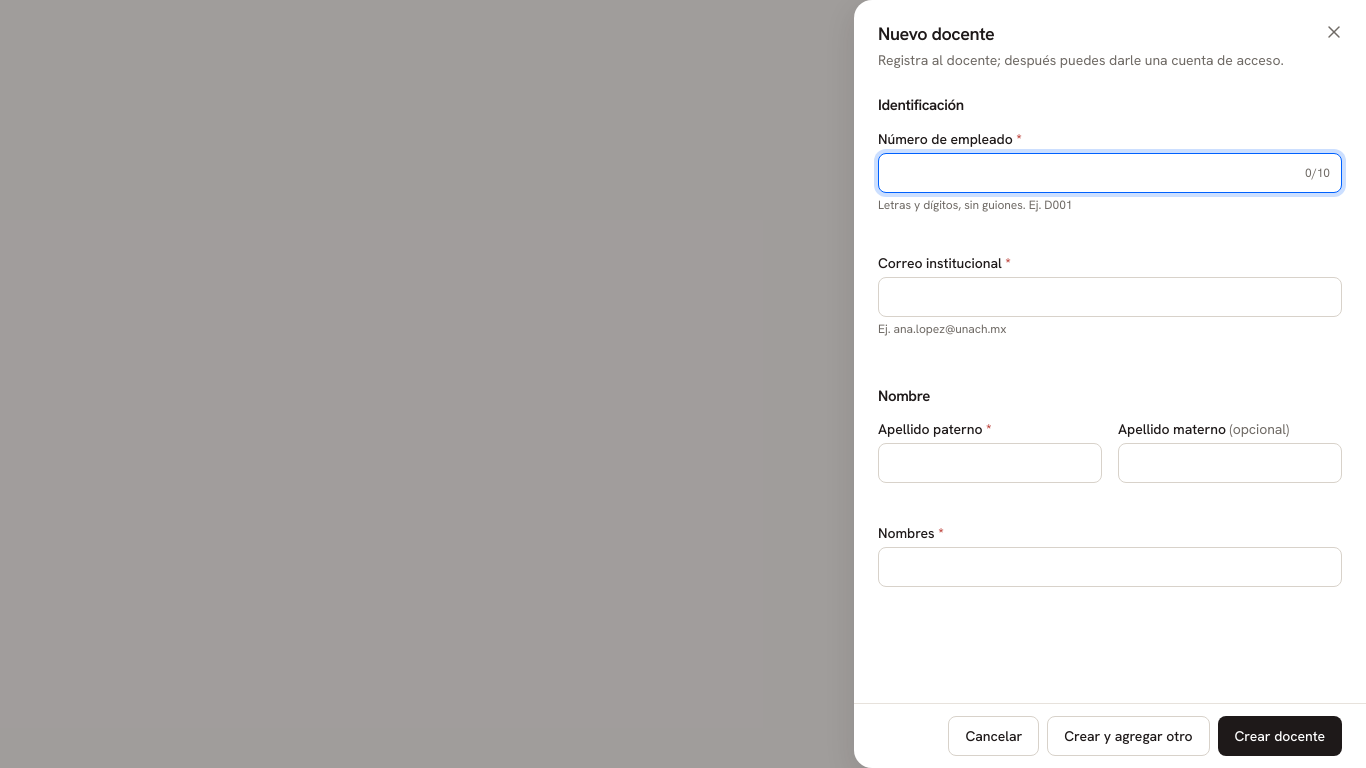
Test case: DocenteForm: alta › sin la función de cuenta no ofrece ese paso, pero sí las salidas
Type "d008" into the field labelled "Número de empleado *" at (1110, 172), box [878,152,1342,192]
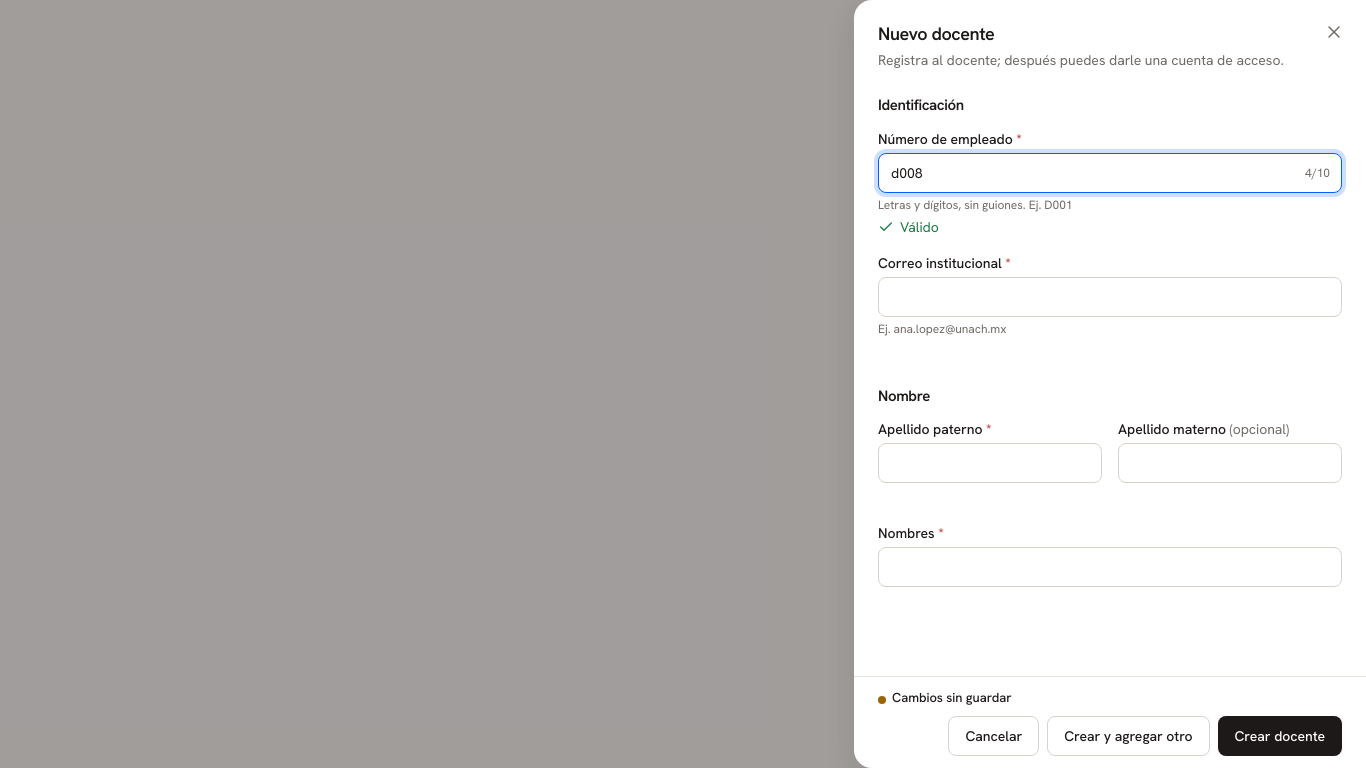
Type "ana.lopez@unach.mx" into the field labelled "Correo institucional *" at (1110, 296), box [878,276,1342,316]
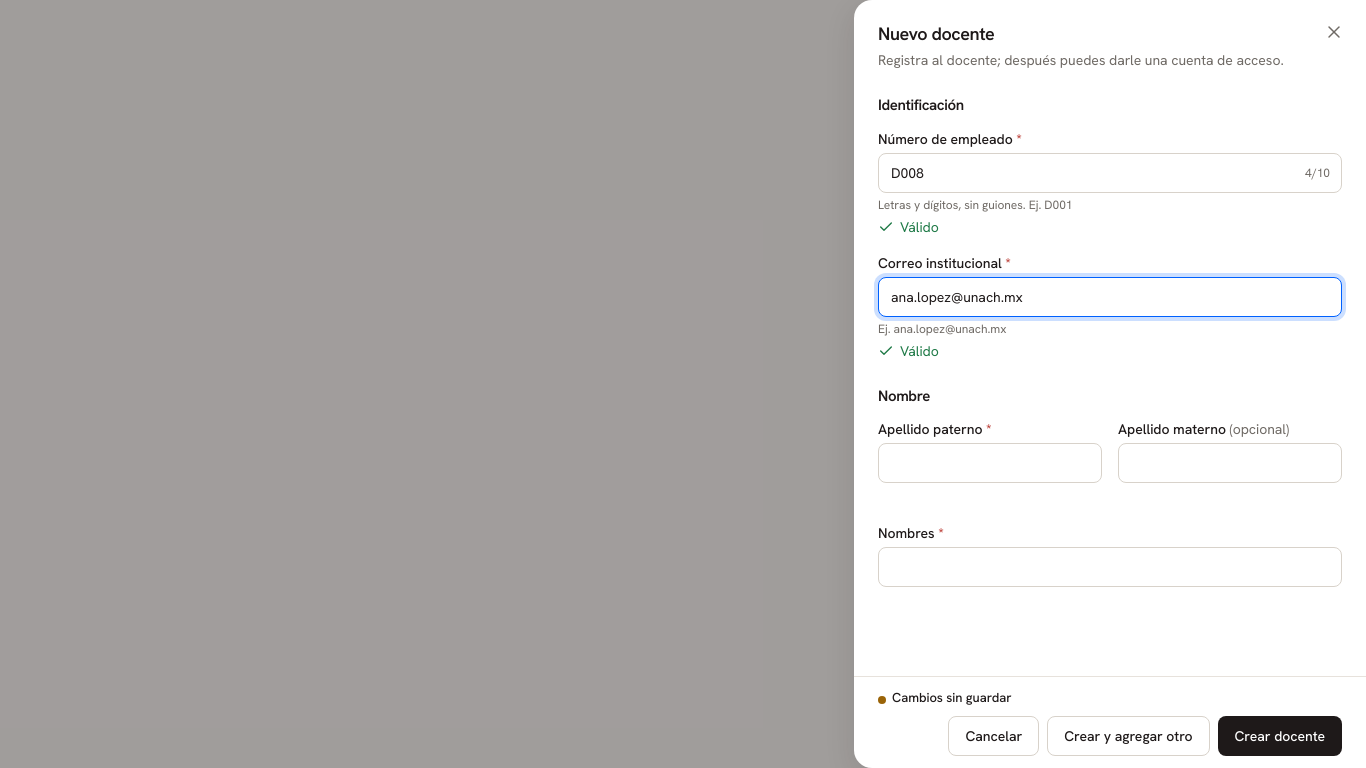
Type "López" into the field labelled "Apellido paterno *" at (990, 463), box [878,443,1102,483]
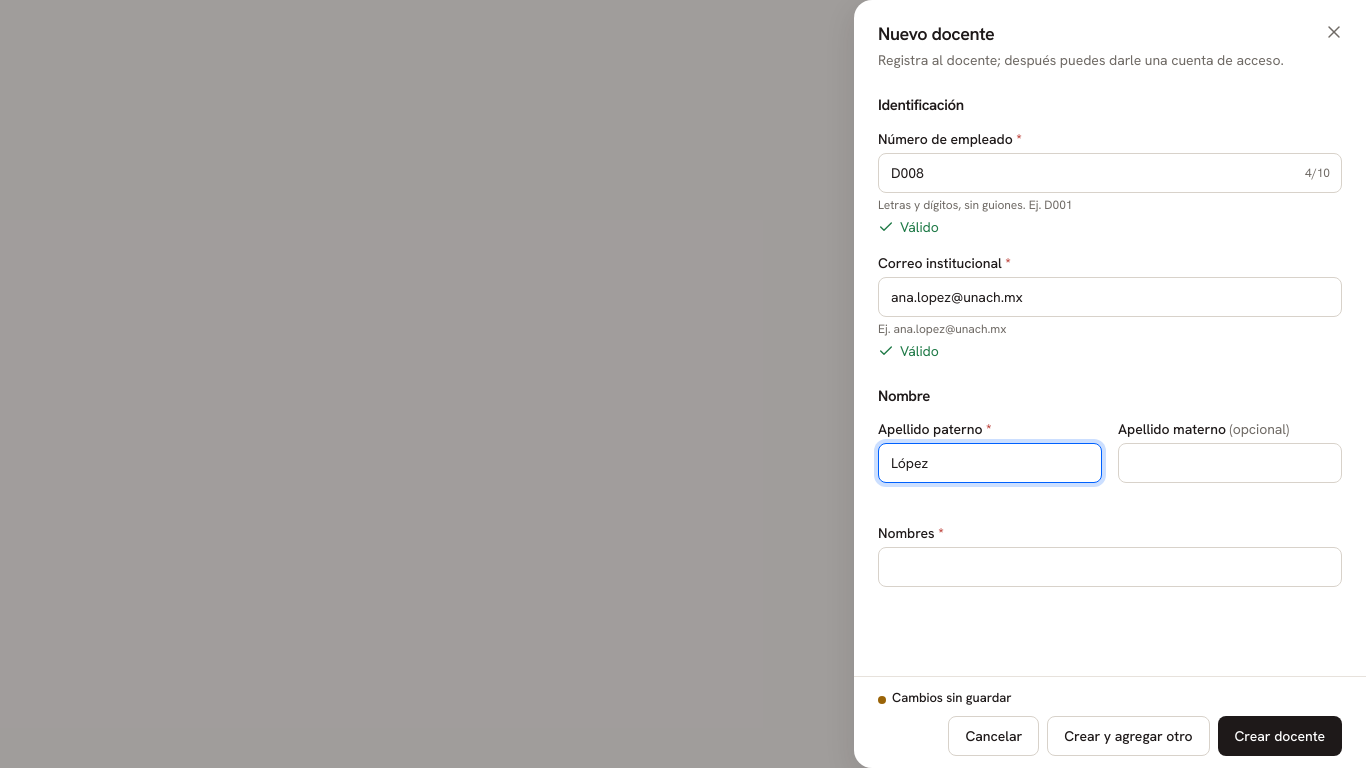
Type "Ruiz" into the field labelled "Apellido materno (opcional)" at (1230, 463), box [1118,443,1342,483]
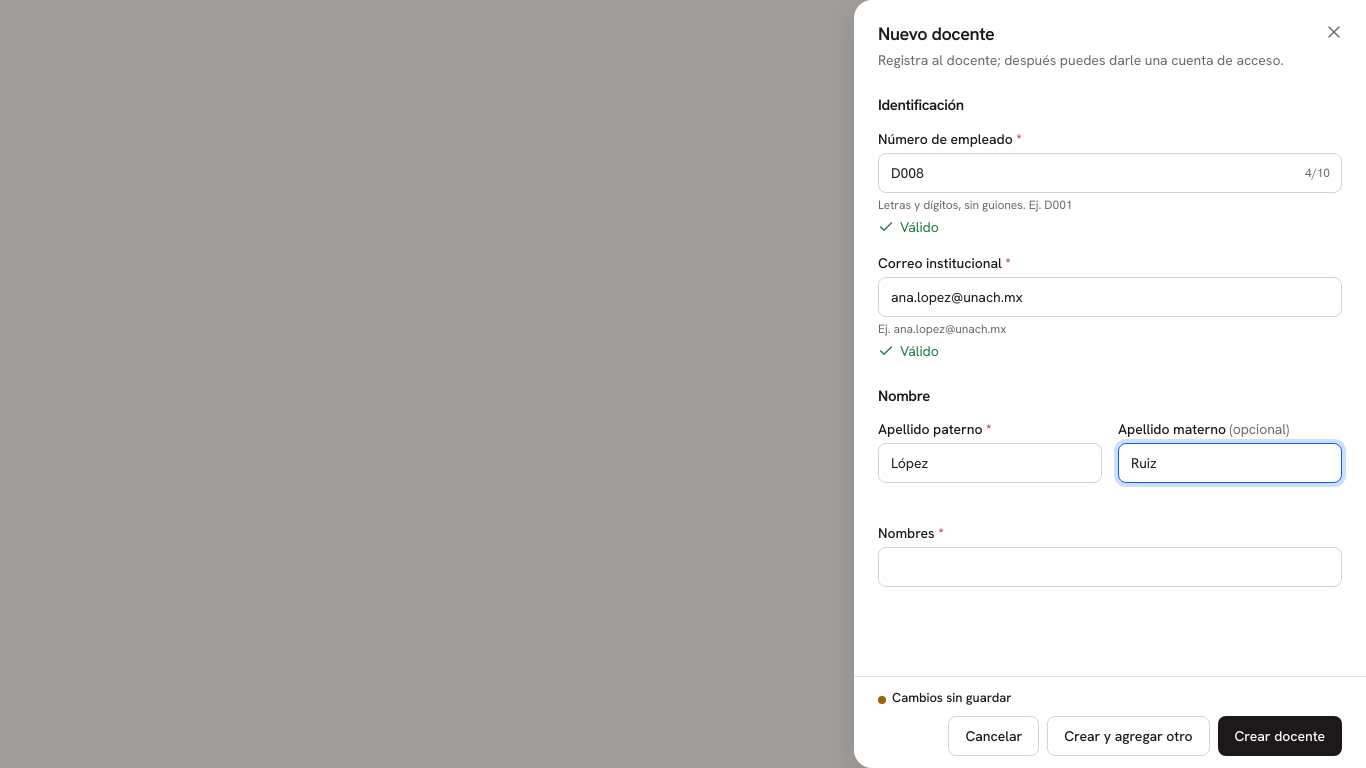
Type "Ana" into the field labelled "Nombres *" at (1110, 567), box [878,547,1342,587]
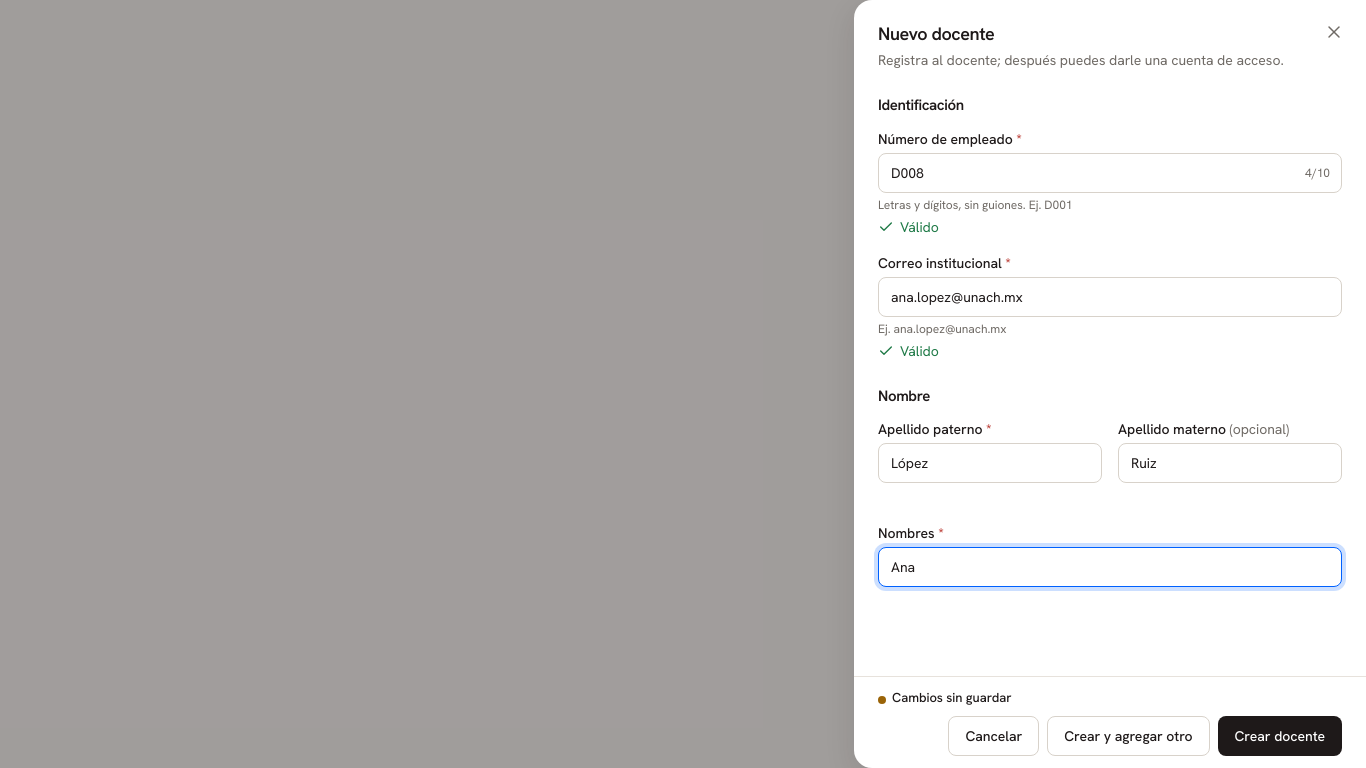
Click the button "Crear docente" at (1280, 736), box [1218,716,1342,756]
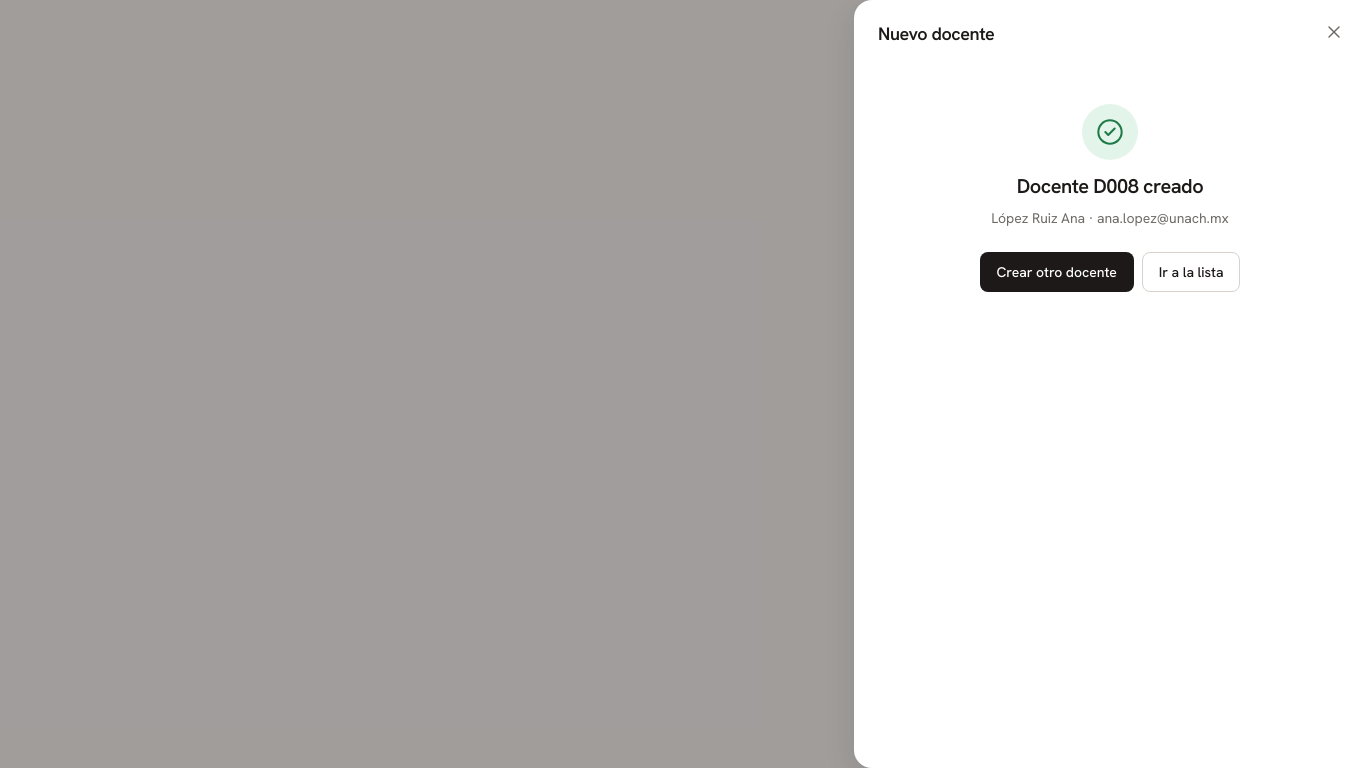
Result: the heading "Docente D008 creado" is shown at [1017,172,1203,200]
Result: the button "Ir a la lista" is shown at [1142,252,1240,292]
